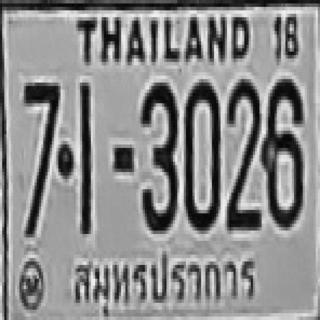N00: (184, 79, 218, 227)
N01: (79, 81, 92, 232)
N02: (226, 76, 260, 227)
N03: (138, 79, 177, 230)
N06: (262, 76, 300, 224)
N07: (22, 79, 58, 234), (22, 79, 58, 193)
P57: (67, 250, 258, 317)
